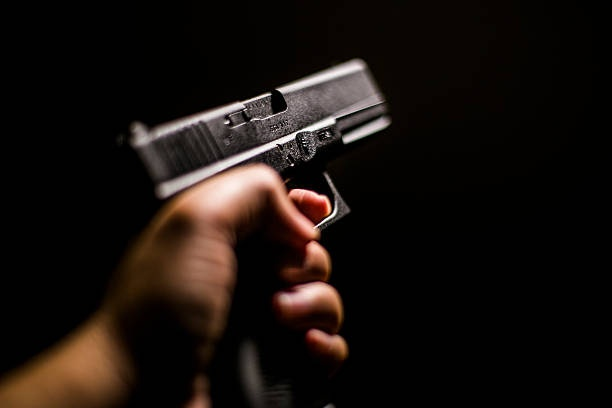pistol: (129, 57, 394, 408)
